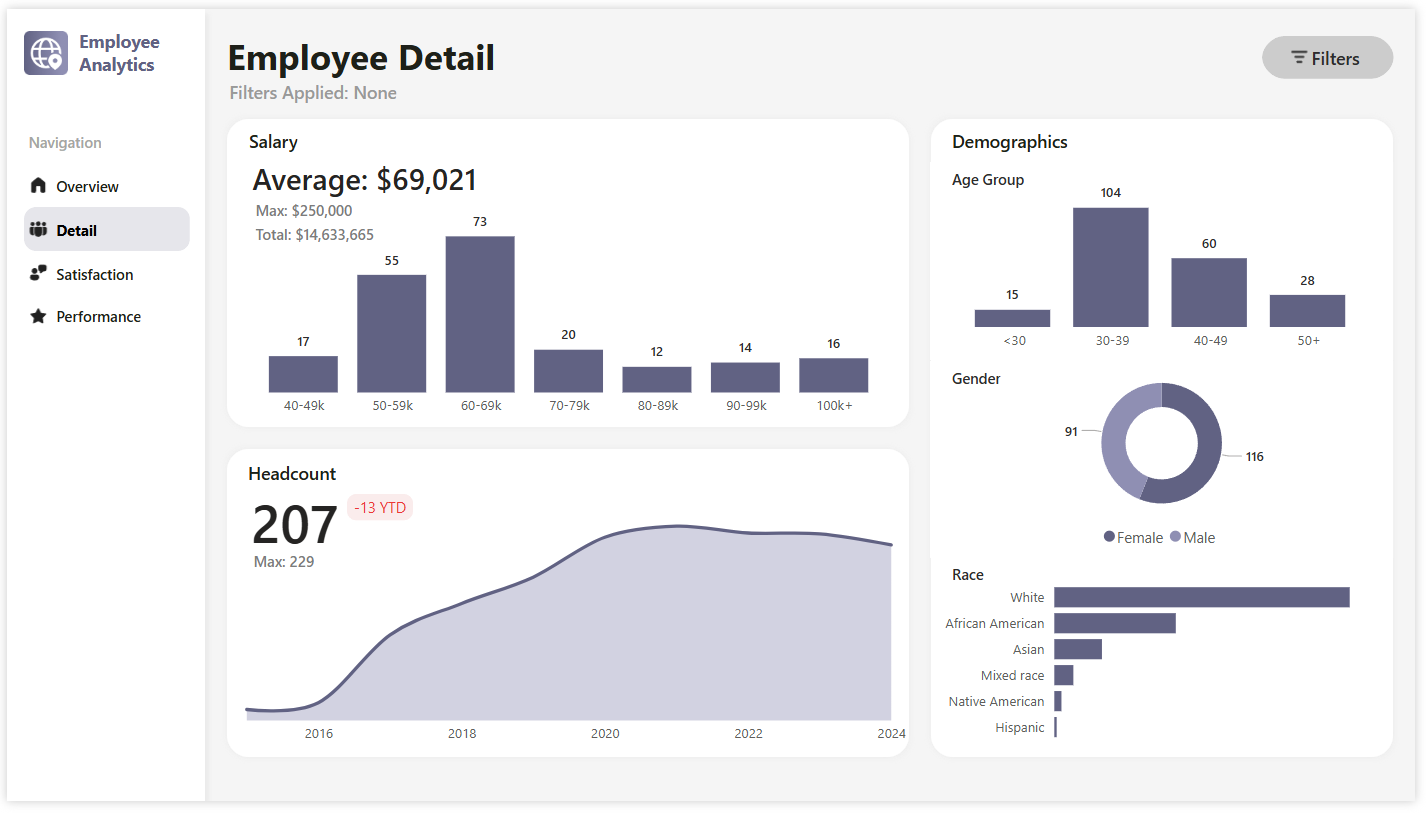

The dashboard page shown, as its layout file describes it:
{"tool":"powerbi","page":{"name":"Detail","canvas":[1280,720],"ordinal":1},"visuals":[{"type":"shape","box":[65,18,105.8,42],"z":0,"group":"g1"},{"type":"lineChart","fields":{"Category":["Date.Date.Variation.Date Hierarchy.Year","Date.Date.Variation.Date Hierarchy.Quarter","Date.Date.Variation.Date Hierarchy.Month"],"Y":["_Measures.activeEmpsOverTime"]},"box":[199.6,440.4,621.9,236.9],"z":0},{"type":"shape","box":[200,20,400,50],"z":1000},{"type":"image","box":[15,20.2,40.3,40.3],"z":1000,"group":"g1"},{"type":"shape","box":[200,60,400,30],"z":2000},{"type":"actionButton","box":[15,140,150,40],"z":3000},{"type":"actionButton","box":[15,180,150.8,40],"z":4000},{"type":"actionButton","box":[15,220,150.8,40],"z":5000},{"type":"actionButton","box":[15,259,150.8,39.8],"z":6000},{"type":"actionButton","box":[15,100,150.8,40],"z":7000},{"type":"shape","box":[199,400.5,400,40],"z":8000},{"type":"shape","box":[839.4,100,400,39.4],"z":9000},{"type":"shape","box":[200,100,400,39.4],"z":10000},{"type":"columnChart","fields":{"Category":["Employee.AgeCategory"],"Y":["_Measures.activeEmps"]},"box":[839.4,139.4,421.2,180],"z":11000},{"type":"donutChart","fields":{"Y":["_Measures.activeEmps"],"Category":["Gender.Sex Long"]},"box":[839.4,319.7,421.2,178.8],"z":12000},{"type":"clusteredBarChart","fields":{"Category":["Employee.RaceDesc"],"Y":["_Measures.activeEmps"]},"box":[839.4,498.5,421.2,178.8],"z":13000},{"type":"shape","box":[839.4,139.4,400,30.3],"z":14000},{"type":"shape","box":[839.4,319.7,400,30.3],"z":15000},{"type":"shape","box":[839.4,498.5,400,30.3],"z":16000},{"type":"cardVisual","fields":{"Data":["_Measures.activeEmps"]},"box":[199.5,408,119.7,105.3],"z":17000},{"type":"shape","box":[309,441.2,60,24],"z":18000},{"type":"shape","box":[199.5,488.8,119.7,24.5],"z":19000},{"type":"clusteredColumnChart","fields":{"Y":["_Measures.activeEmpsOverTime"],"Category":["Salary.SalaryCategory"]},"box":[200.6,170.3,620.9,208.6],"z":20000},{"type":"cardVisual","fields":{"Data":["_Measures.averageSalaryText"]},"box":[200.5,102.4,259.7,99.6],"z":21000},{"type":"shape","box":[200.5,170,180.3,24.5],"z":22000},{"type":"shape","box":[200.5,192,180.3,24.5],"z":23000},{"type":"actionButton","box":[1141.2,24.5,119.7,39],"z":24000},{"type":"group","id":"g1","title":"Group 1","box":[15,18,155.8,42.5],"z":24001}]}

Visuals, with their boxes on the page's 1280x720 design canvas (x1, y1, x2, y2). These are canvas units, not pixel positions in the 1426x813 screenshot, which may show the page scaled, cropped or inside an application window:
shape: x1=65 y1=18 x2=171 y2=60
lineChart - Date.Date.Variation.Date Hierarchy.Year x Date.Date.Variation.Date Hierarchy.Quarter: x1=200 y1=440 x2=822 y2=677
shape: x1=200 y1=20 x2=600 y2=70
image: x1=15 y1=20 x2=55 y2=60
shape: x1=200 y1=60 x2=600 y2=90
actionButton: x1=15 y1=140 x2=165 y2=180
actionButton: x1=15 y1=180 x2=166 y2=220
actionButton: x1=15 y1=220 x2=166 y2=260
actionButton: x1=15 y1=259 x2=166 y2=299
actionButton: x1=15 y1=100 x2=166 y2=140
shape: x1=199 y1=400 x2=599 y2=440
shape: x1=839 y1=100 x2=1239 y2=139
shape: x1=200 y1=100 x2=600 y2=139
columnChart - Employee.AgeCategory x _Measures.activeEmps: x1=839 y1=139 x2=1261 y2=319
donutChart - _Measures.activeEmps x Gender.Sex Long: x1=839 y1=320 x2=1261 y2=498
clusteredBarChart - Employee.RaceDesc x _Measures.activeEmps: x1=839 y1=498 x2=1261 y2=677
shape: x1=839 y1=139 x2=1239 y2=170
shape: x1=839 y1=320 x2=1239 y2=350
shape: x1=839 y1=498 x2=1239 y2=529
cardVisual - _Measures.activeEmps: x1=200 y1=408 x2=319 y2=513
shape: x1=309 y1=441 x2=369 y2=465
shape: x1=200 y1=489 x2=319 y2=513
clusteredColumnChart - _Measures.activeEmpsOverTime x Salary.SalaryCategory: x1=201 y1=170 x2=822 y2=379
cardVisual - _Measures.averageSalaryText: x1=200 y1=102 x2=460 y2=202
shape: x1=200 y1=170 x2=381 y2=194
shape: x1=200 y1=192 x2=381 y2=216
actionButton: x1=1141 y1=24 x2=1261 y2=64
"Group 1" group: x1=15 y1=18 x2=171 y2=60
